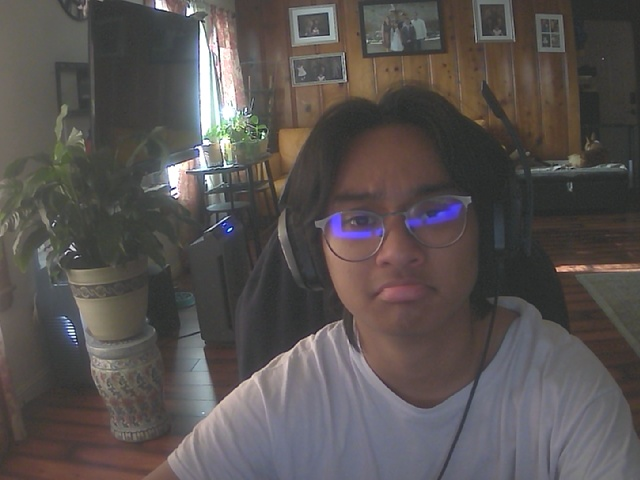sad: (315, 107, 485, 337)
